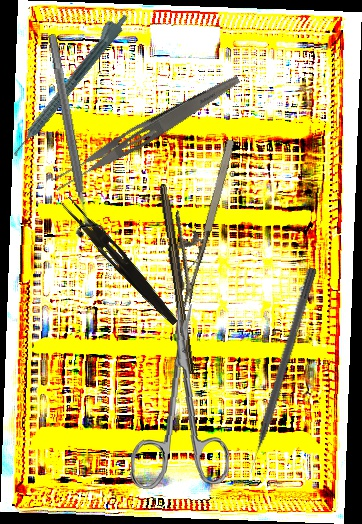Dressing Forceps: (48, 65, 243, 197), (56, 195, 185, 328)
Fixation Ring: (36, 31, 107, 239)
Handpiece: (3, 7, 132, 159)
Iris Scissors: (129, 301, 238, 493)
Needle Holder: (150, 130, 240, 309)
Pusher: (243, 266, 318, 476)
Scalpel Handle: (156, 183, 200, 375)
